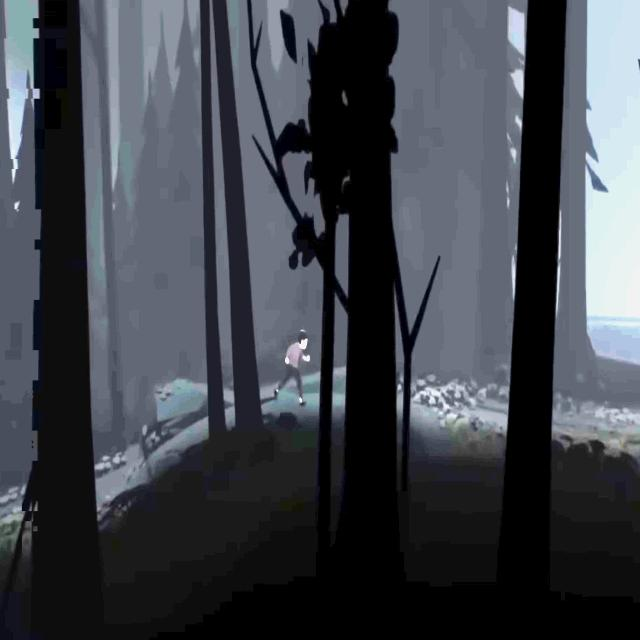boy: (278, 329, 310, 404)
